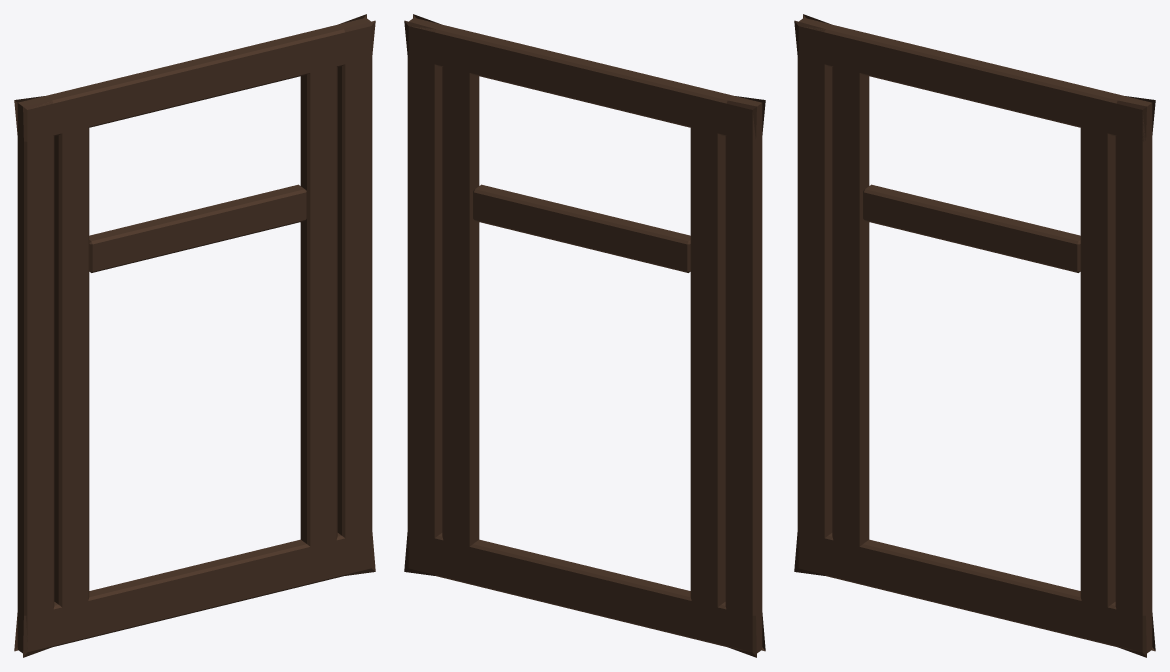
Rendered from timber_door_w8.fbx.
3 renders of one model, left to right at view 1: azimuth 30°, elevation 25°; view 2: azimuth 150°, elevation 25°; view 3: azimuth 330°, elevation 25°, orthographic.
Visible parts, largest first — view 1: timber_door_w8; view 2: timber_door_w8; view 3: timber_door_w8.
Boxes of the visible parts, left/top/right/bottom form: timber_door_w8: left=14, top=14, right=375, bottom=657; timber_door_w8: left=404, top=14, right=765, bottom=657; timber_door_w8: left=794, top=14, right=1155, bottom=657.
Size of the model in its own units: 810 by 1210 by 35.
